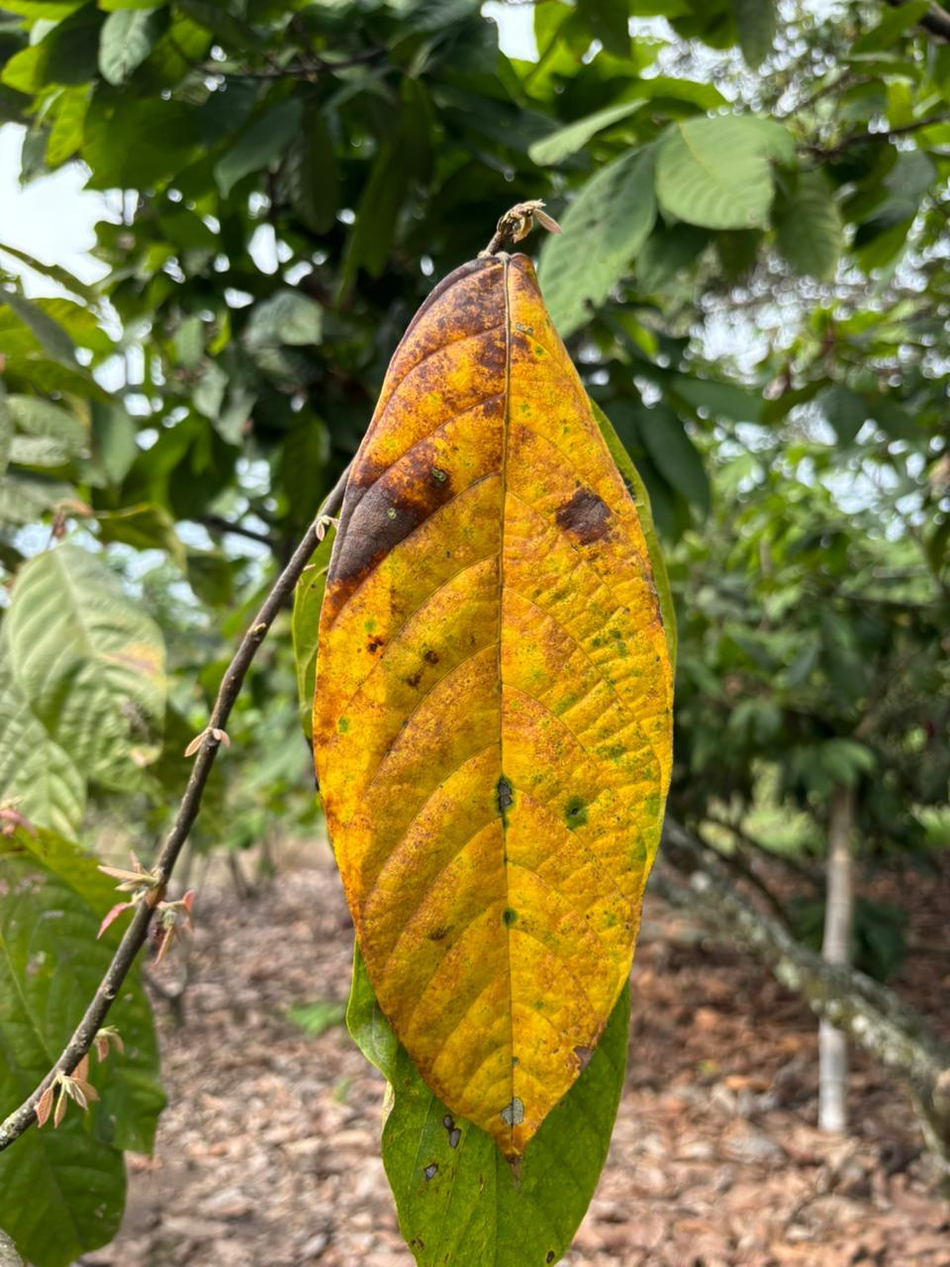Fosforo: (313, 253, 672, 1169)
